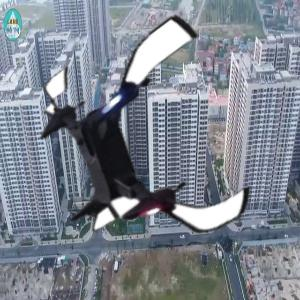drone: (30, 29, 267, 266)
